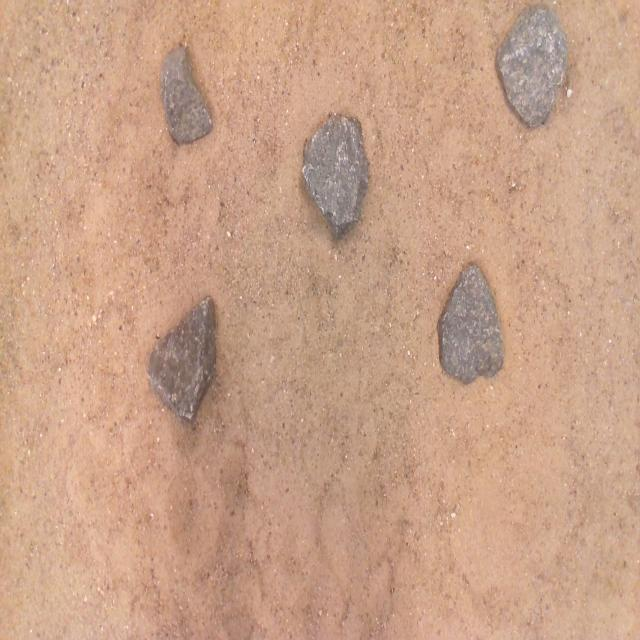rock: (148, 297, 216, 422), (496, 7, 567, 126), (302, 116, 368, 236), (437, 264, 503, 383), (160, 47, 212, 142)
